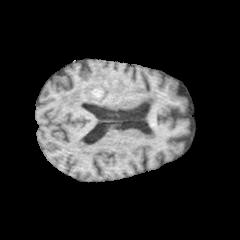glioma: (61, 67, 120, 108)
